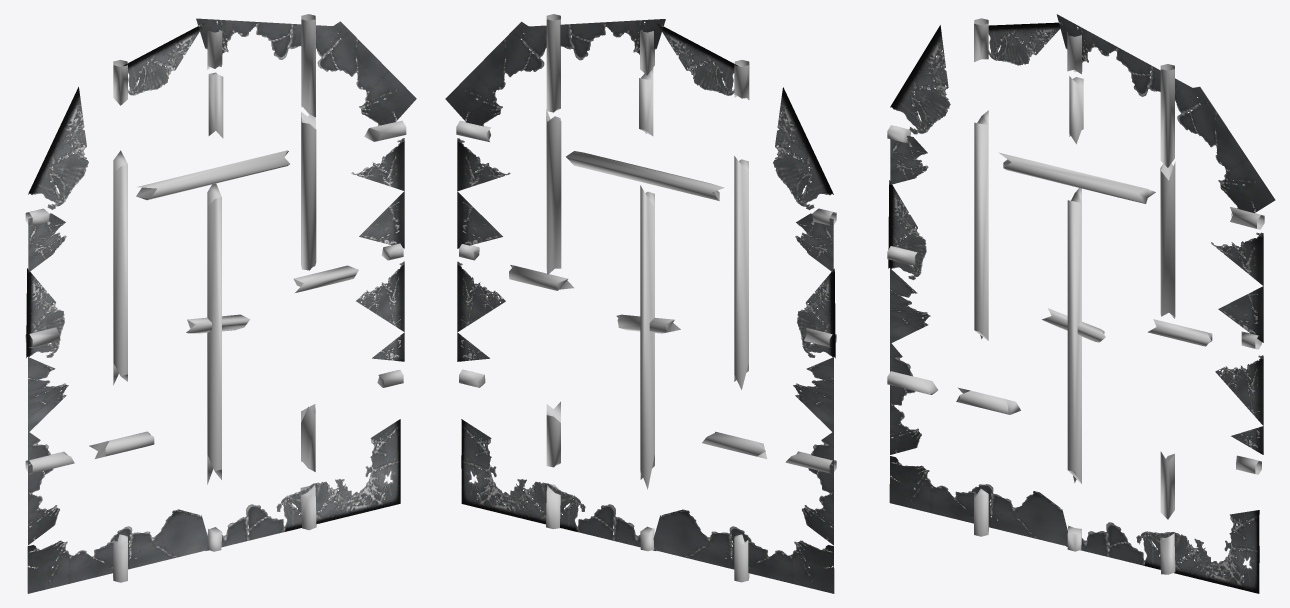
Rendered from mansionbase_large_window_broken.dae.
3 views of the same model, side by side, from view 1: azimuth 30°, elevation 25°; view 2: azimuth 150°, elevation 25°; view 3: azimuth 330°, elevation 25° (orthographic).
Visible parts, largest first — view 1: broken_glass, polySurface699, window_wood_piece05, window_wood_piece04, window_wood_piece08, window_wood_piece06, window_wood_piece03, window_wood_piece02, window_wood_piece07, window_wood_piece01; view 2: broken_glass, polySurface699, window_wood_piece05, window_wood_piece04, window_wood_piece08, window_wood_piece06, window_wood_piece01, window_wood_piece02, window_wood_piece07, window_wood_piece03; view 3: broken_glass, polySurface699, window_wood_piece05, window_wood_piece04, window_wood_piece08, window_wood_piece06, window_wood_piece01, window_wood_piece07, window_wood_piece03, window_wood_piece02.
Part boxes in pixels (box(x1,y1,x2,y2)): broken_glass: box(26, 18, 416, 593); polySurface699: box(25, 14, 406, 582); window_wood_piece05: box(186, 183, 249, 484); window_wood_piece04: box(113, 150, 127, 385); window_wood_piece08: box(301, 111, 316, 270); window_wood_piece06: box(136, 150, 289, 200); window_wood_piece03: box(208, 72, 223, 138); window_wood_piece02: box(293, 265, 358, 292); window_wood_piece07: box(89, 431, 154, 458); window_wood_piece01: box(301, 404, 315, 471); broken_glass: box(445, 19, 835, 593); polySurface699: box(456, 14, 836, 582); window_wood_piece05: box(616, 185, 680, 489); window_wood_piece04: box(734, 156, 748, 389); window_wood_piece08: box(546, 109, 561, 274); window_wood_piece06: box(566, 151, 724, 200); window_wood_piece01: box(546, 401, 560, 467); window_wood_piece02: box(509, 265, 573, 290); window_wood_piece07: box(702, 431, 766, 458); window_wood_piece03: box(639, 68, 653, 136); broken_glass: box(888, 14, 1275, 593); polySurface699: box(887, 18, 1264, 574); window_wood_piece05: box(1042, 188, 1105, 483); window_wood_piece04: box(974, 110, 988, 340); window_wood_piece08: box(1160, 162, 1175, 318); window_wood_piece06: box(999, 152, 1155, 203); window_wood_piece01: box(1160, 451, 1174, 519); window_wood_piece07: box(956, 387, 1020, 414); window_wood_piece03: box(1069, 76, 1083, 144); window_wood_piece02: box(1147, 319, 1212, 346).
Bounding box in the file's own units: 2.31 × 2.98 × 0.0776.
